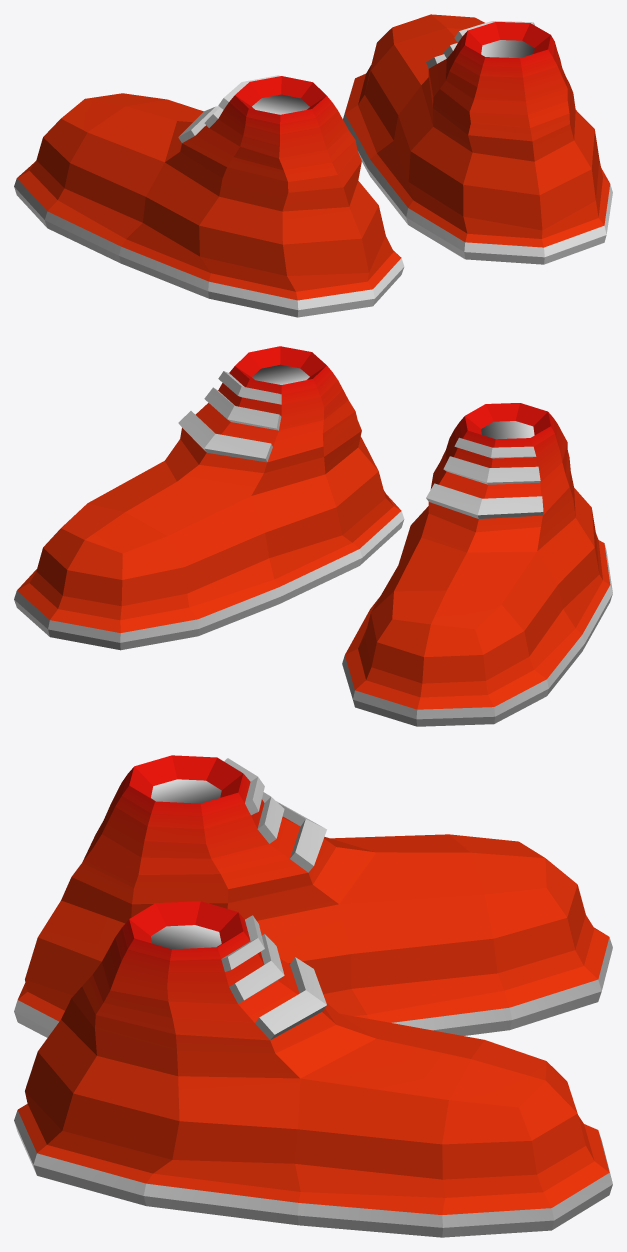
Rendered from SpeedShoes.fbx.
3 renders of one model, top to bottom at view 1: azimuth 30°, elevation 25°; view 2: azimuth 150°, elevation 25°; view 3: azimuth 270°, elevation 25°, orthographic. The views are drawn at different scales.
Visible parts, largest first — view 1: SpeedShoes; view 2: SpeedShoes; view 3: SpeedShoes.
Part boxes in pixels (x1,y1,x2,y2): SpeedShoes: (14,14,612,317); SpeedShoes: (14,346,612,726); SpeedShoes: (14,755,612,1237).
Size of the model in its own units: 0.7247 by 0.2406 by 0.5667.
